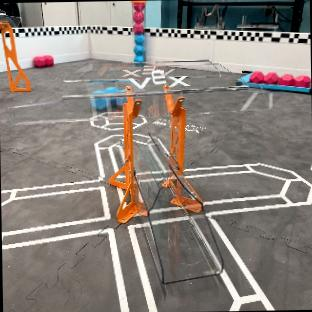V5_BLUE: (93, 95, 125, 109), (133, 31, 144, 60)
V5_RED: (33, 55, 52, 66)
